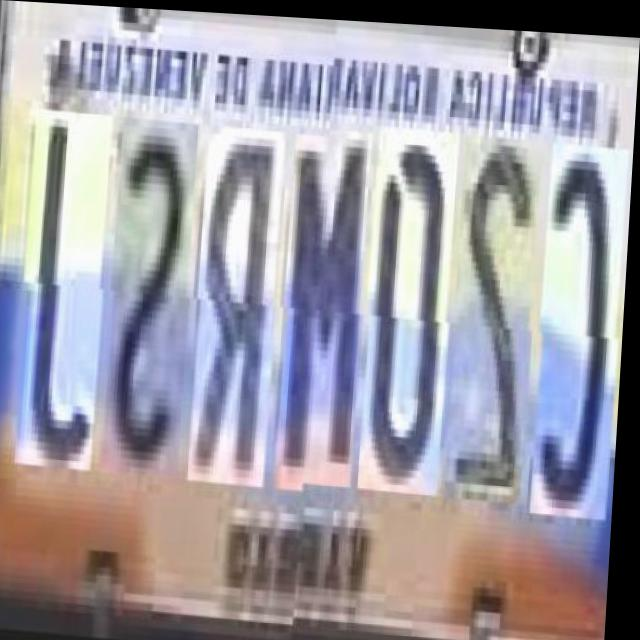0: (361, 131, 461, 500)
2: (447, 138, 544, 507)
c: (533, 143, 631, 520)
j: (17, 113, 114, 475)
m: (277, 132, 373, 494)
r: (190, 126, 287, 488)
s: (104, 118, 201, 480)
